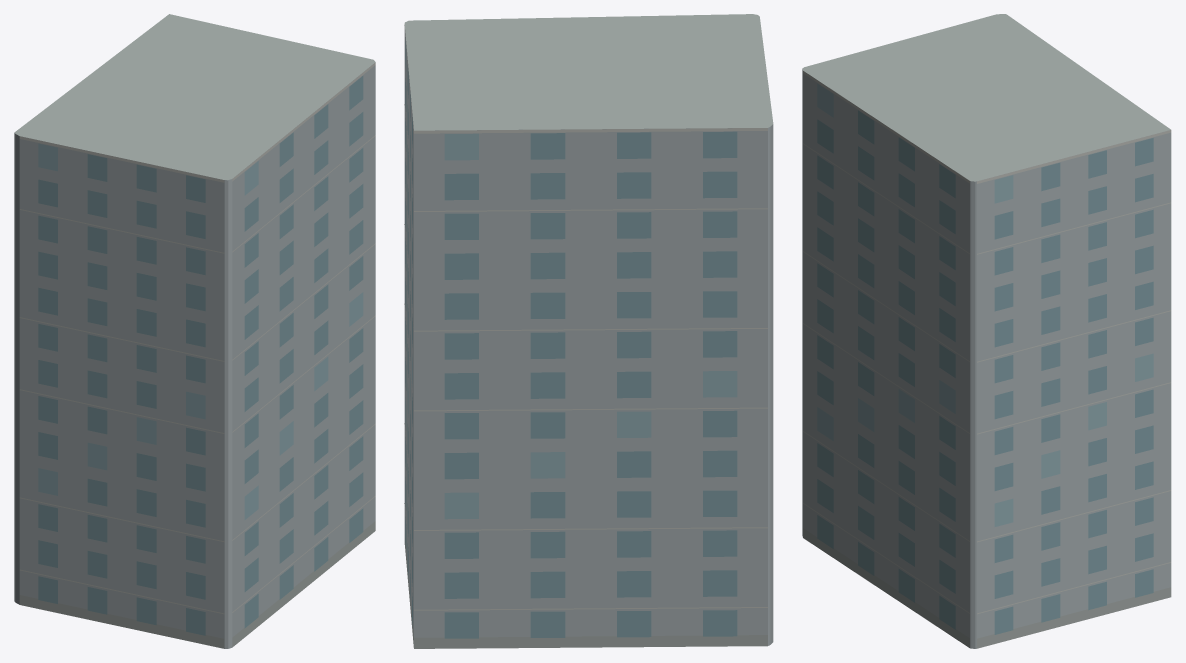
The model's file is survey-upis-32734624.glb.
The picture shows the model from 3 angles, left to right: view 1: azimuth 30°, elevation 25°; view 2: azimuth 150°, elevation 25°; view 3: azimuth 270°, elevation 25°; orthographic projection. The views are drawn at different scales.
Visible parts, largest first — view 1: survey-upis-32734624.tmp; view 2: survey-upis-32734624.tmp; view 3: survey-upis-32734624.tmp.
Boxes of the visible parts, x1,y1,x2,y2 form: survey-upis-32734624.tmp: (14, 14, 375, 648); survey-upis-32734624.tmp: (404, 14, 773, 648); survey-upis-32734624.tmp: (802, 14, 1171, 648).
Bounding box in the file's own units: 31.83 × 41.4 × 29.62.
